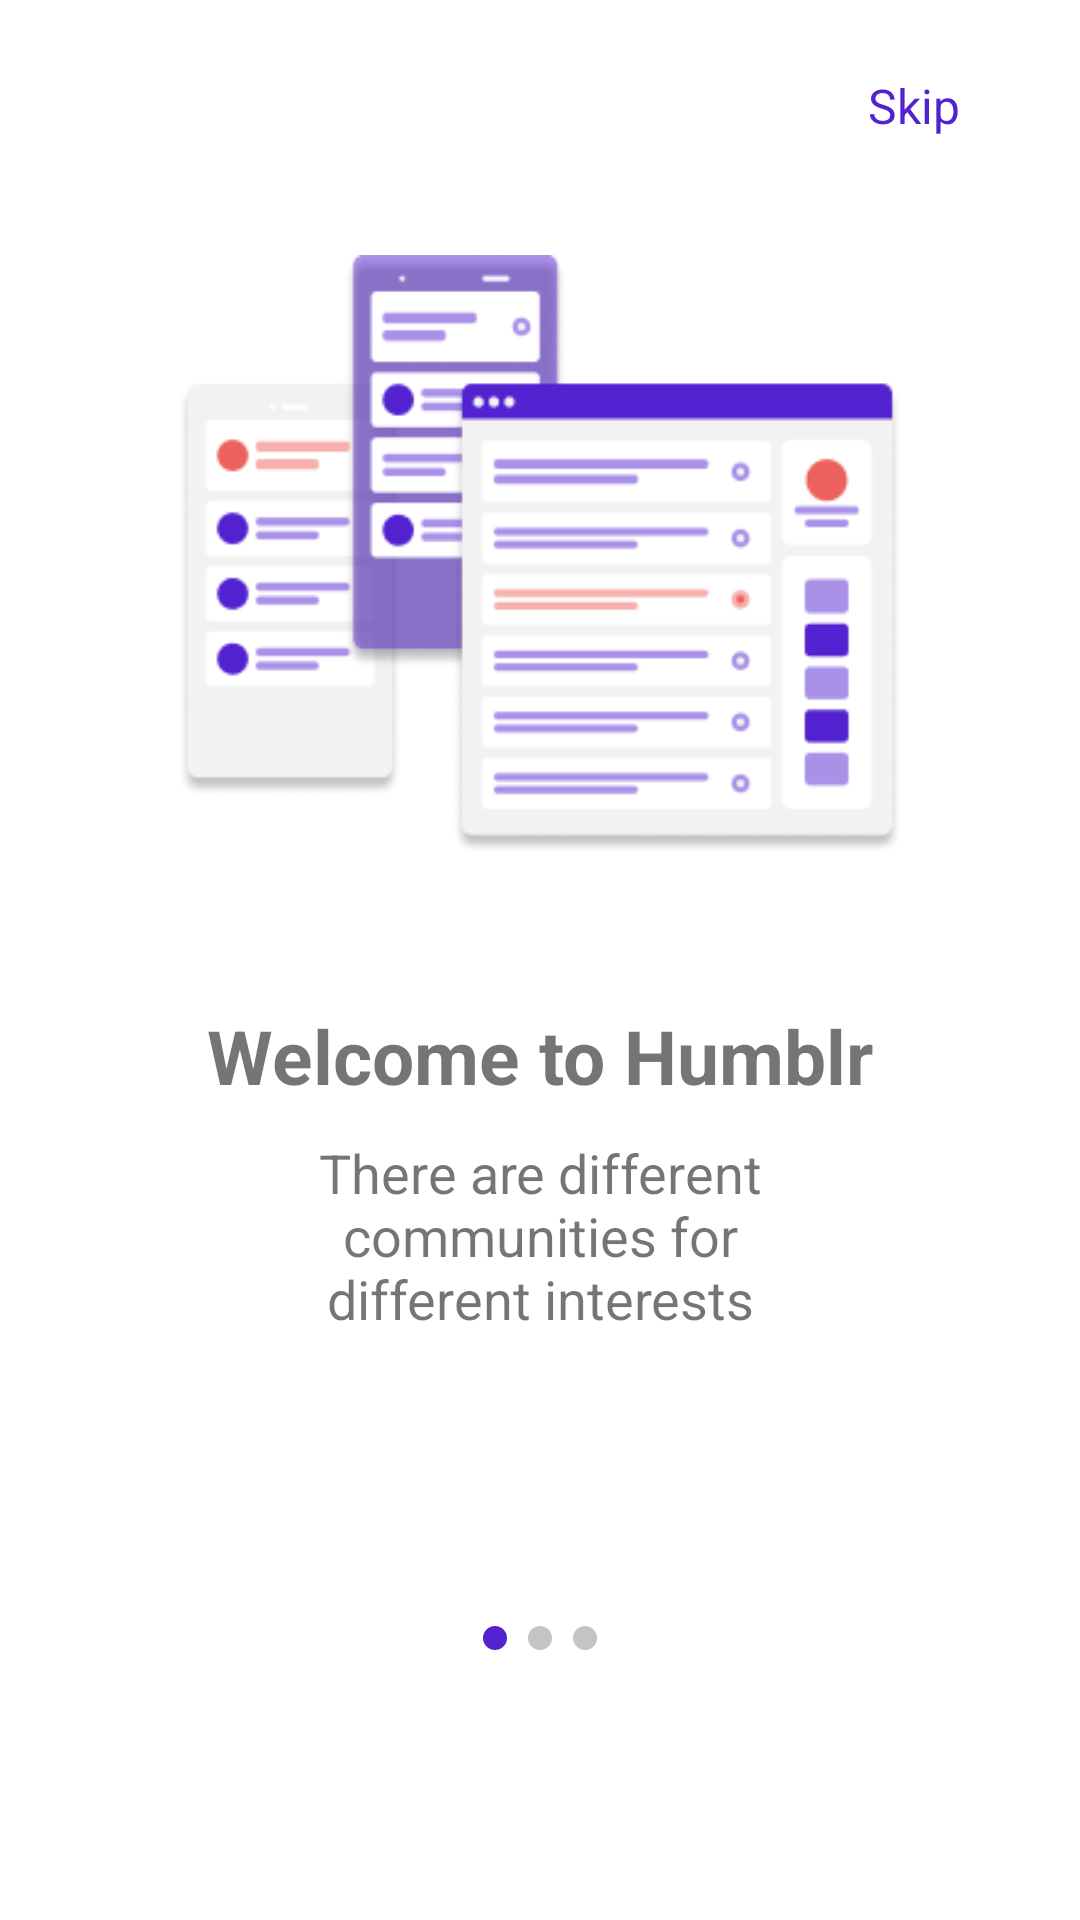

Screen size 1080*1920. Icon name, then its center in pixels as (x,y):
onboard progress one: (540,1638)
